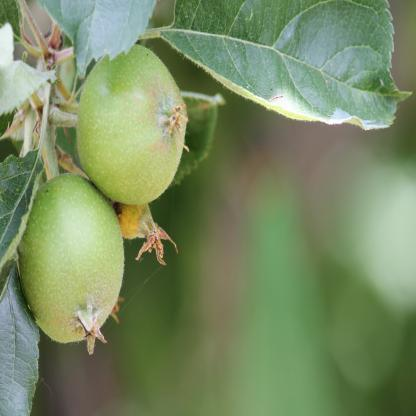Apple leaf: (161, 3, 414, 141)
